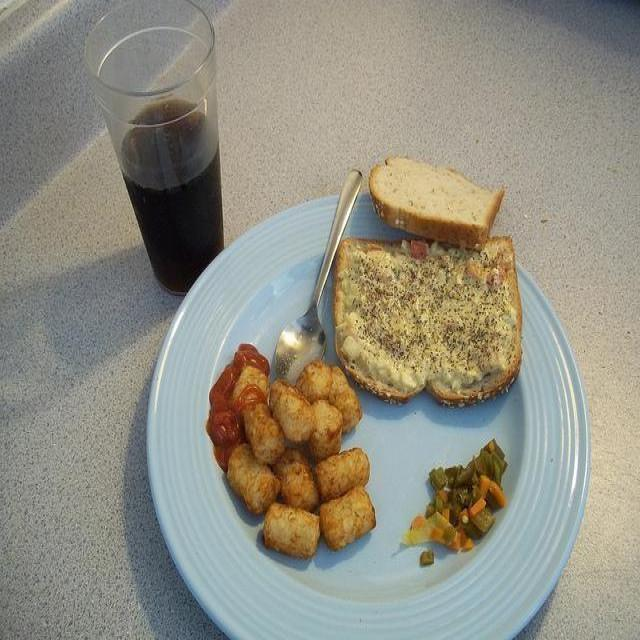glass-normal: (84, 1, 225, 296)
